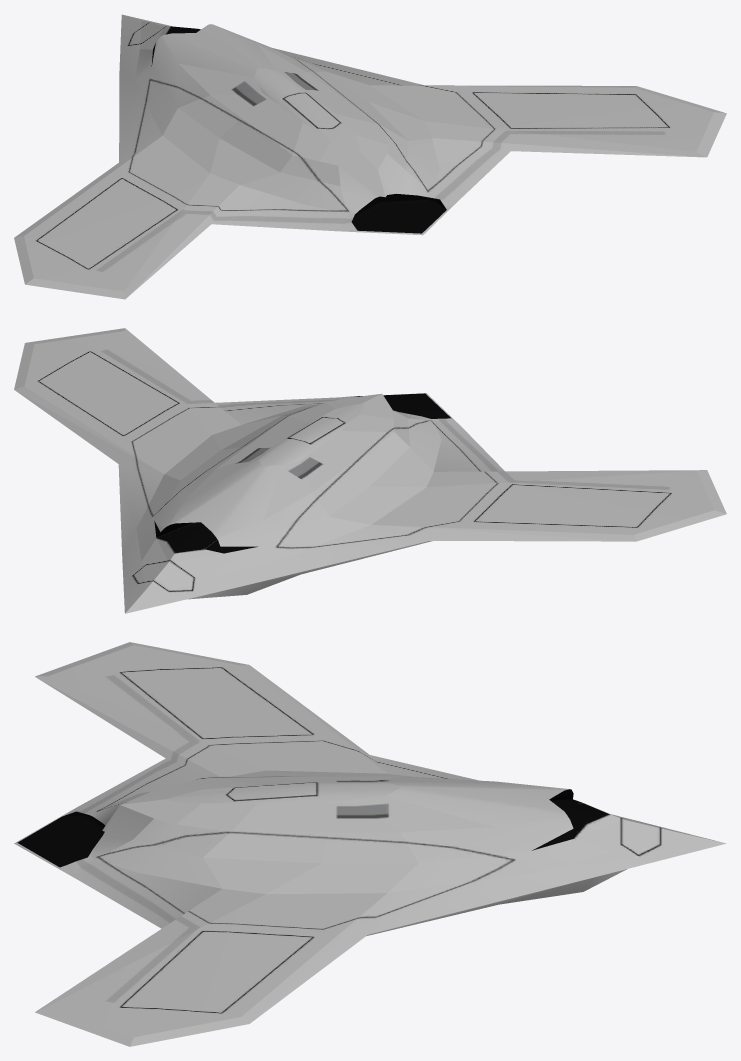
The model's file is rq170drone.glb.
The picture shows the model from 3 angles, top to bottom: view 1: azimuth 30°, elevation 25°; view 2: azimuth 150°, elevation 25°; view 3: azimuth 270°, elevation 25°; orthographic projection. The views are drawn at different scales.
Parts seen in each view (by area): view 1: UAV_01_Body; view 2: UAV_01_Body; view 3: UAV_01_Body.
Boxes of the visible parts, x1,y1,x2,y2 form: UAV_01_Body: (14,14,726,299); UAV_01_Body: (14,328,726,613); UAV_01_Body: (14,642,726,1046).
Bounding box in the file's own units: 0.78 × 0.077 × 0.5805.
1 material, 1 textured.
